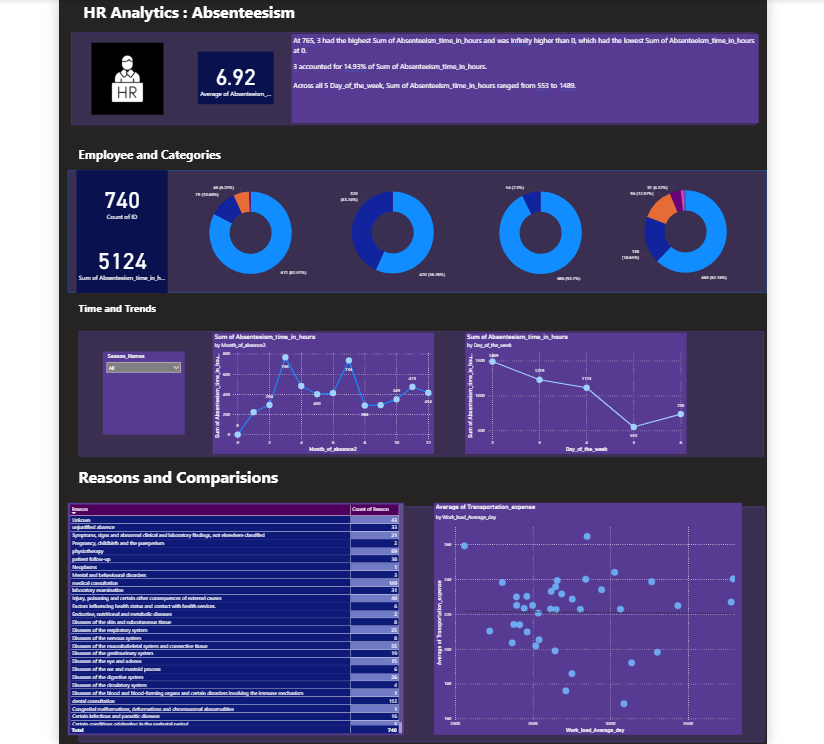

The page's visual inventory and layout, read from the dashboard file:
{"tool":"powerbi","page":{"name":"Page 1","canvas":[1890,1990],"ordinal":0},"visuals":[{"type":"shape","box":[22.9,457.6,1865.7,327.4],"z":0},{"type":"shape","box":[22.9,79.2,1844.6,264],"z":1000},{"type":"shape","box":[43.3,1343.8,1847.3,646.9],"z":2000},{"type":"shape","box":[42.2,876.5,1846.3,352],"z":3000},{"type":"donutChart","fields":{"Category":["Query1.Education"],"Y":["CountNonNull(Query1.Education)"]},"box":[316.8,459.4,389,327.4],"z":4000},{"type":"card","fields":{"Values":["Avg(Query1.Absenteeism_time_in_hours)"]},"box":[369.6,140.8,202.4,140.8],"z":5000},{"type":"lineChart","fields":{"Category":["Query1.Month_of_absence2"],"Y":["Sum(Query1.Absenteeism_time_in_hours)"]},"box":[410.1,890.3,590.2,323.4],"z":6000},{"type":"lineChart","fields":{"Category":["Query1.Day_of_the_week"],"Y":["Sum(Query1.Absenteeism_time_in_hours)"]},"box":[1083.7,890.3,590.2,323.4],"z":7000},{"type":"donutChart","fields":{"Category":["Query1.Social_drinker"],"Y":["CountNonNull(Query1.Social_drinker)"]},"box":[697,459.4,387.2,325.6],"z":8000},{"type":"donutChart","fields":{"Category":["Query1.Social_smoker"],"Y":["CountNonNull(Query1.Social_smoker)"]},"box":[1089.5,459.4,389,327.4],"z":9000},{"type":"donutChart","fields":{"Category":["Query1.Pet"],"Y":["CountNonNull(Query1.Pet)"]},"box":[1478.5,457.6,389,327.4],"z":10000},{"type":"tableEx","fields":{"Values":["Query1.Reason","CountNonNull(Query1.Reason)"]},"box":[23.3,1343.8,897,620.2],"z":11000},{"type":"scatterChart","fields":{"X":["Query1.Work_load_Average_day"],"Y":["Avg(Query1.Transportation_expense)"]},"box":[999.7,1344.7,822,619.6],"z":12000},{"type":"card","fields":{"Values":["CountNonNull(Query1.ID)"]},"box":[45.8,457.6,242.9,163.7],"z":13000},{"type":"card","fields":{"Values":["Sum(Query1.Absenteeism_time_in_hours)"]},"box":[45.8,621.3,242.9,163.7],"z":14000},{"type":"textbox","box":[621.3,93.3,1246.2,237.6],"z":15000},{"type":"slicer","fields":{"Values":["Query1.Season_Names"]},"box":[117.9,941.7,218.3,221.8],"z":16000},{"type":"textbox","box":[45.8,369.6,1307.8,75.7],"z":17000},{"type":"image","box":[59.8,116.2,244.7,191.9],"z":18000},{"type":"textbox","box":[45.8,800.8,827.2,75.7],"z":19000},{"type":"textbox","box":[45.8,1240.9,693.5,102.1],"z":20000},{"type":"textbox","box":[59.8,0,906.5,79.2],"z":21000}]}

Visuals, with their boxes on the page's 1890x1990 design canvas (x1, y1, x2, y2). These are canvas units, not pixel positions in the 824x744 screenshot, which may show the page scaled, cropped or inside an application window:
shape: 23/458/1889/785
shape: 23/79/1868/343
shape: 43/1344/1891/1991
shape: 42/876/1888/1228
donutChart - Query1.Education x CountNonNull(Query1.Education): 317/459/706/787
card - Avg(Query1.Absenteeism_time_in_hours): 370/141/572/282
lineChart - Query1.Month_of_absence2 x Sum(Query1.Absenteeism_time_in_hours): 410/890/1000/1214
lineChart - Query1.Day_of_the_week x Sum(Query1.Absenteeism_time_in_hours): 1084/890/1674/1214
donutChart - Query1.Social_drinker x CountNonNull(Query1.Social_drinker): 697/459/1084/785
donutChart - Query1.Social_smoker x CountNonNull(Query1.Social_smoker): 1090/459/1478/787
donutChart - Query1.Pet x CountNonNull(Query1.Pet): 1478/458/1868/785
tableEx - Query1.Reason x CountNonNull(Query1.Reason): 23/1344/920/1964
scatterChart - Query1.Work_load_Average_day x Avg(Query1.Transportation_expense): 1000/1345/1822/1964
card - CountNonNull(Query1.ID): 46/458/289/621
card - Sum(Query1.Absenteeism_time_in_hours): 46/621/289/785
textbox: 621/93/1868/331
slicer - Query1.Season_Names: 118/942/336/1164
textbox: 46/370/1354/445
image: 60/116/304/308
textbox: 46/801/873/876
textbox: 46/1241/739/1343
textbox: 60/0/966/79
